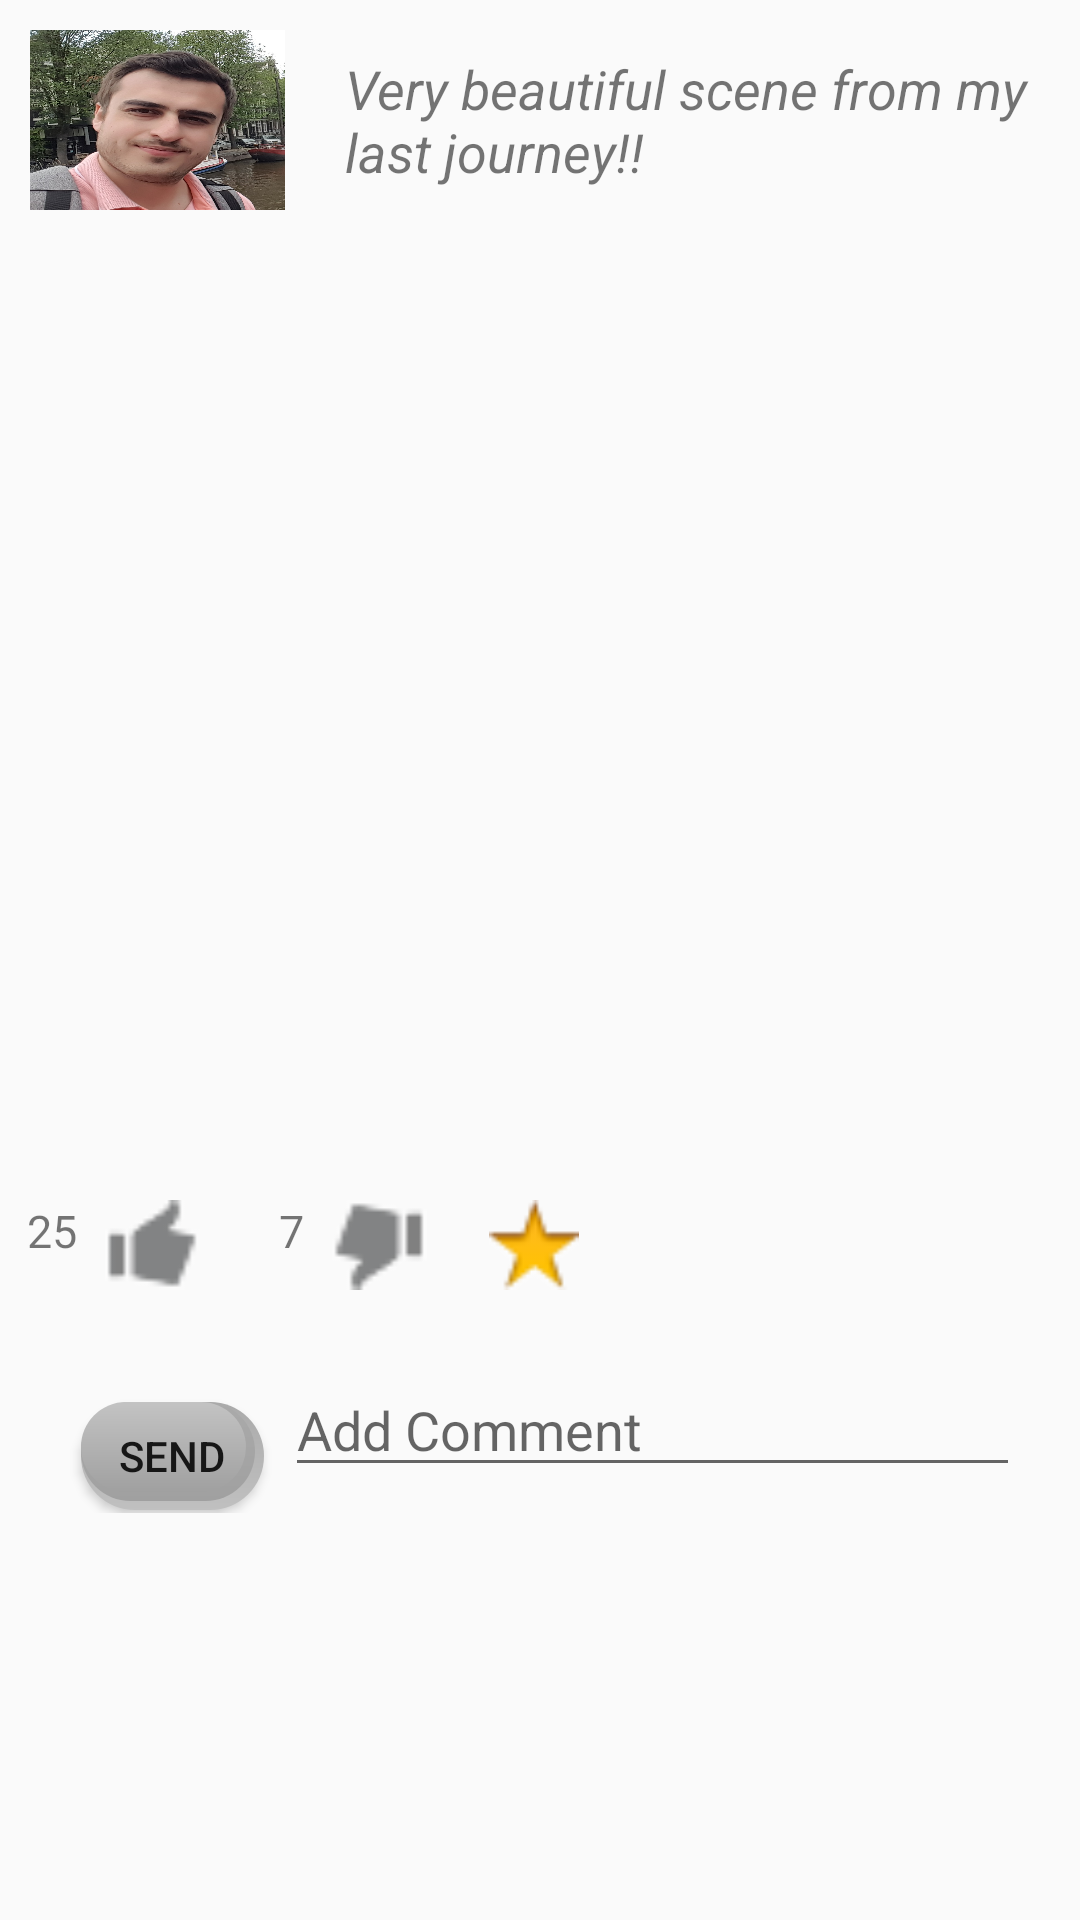

Icons on this 1080 × 1920 Android screen, each with its box as box(x1, y1, x2, y2):
dislike: box(335, 1204, 423, 1290)
like: box(108, 1200, 196, 1286)
star: box(489, 1200, 579, 1288)
